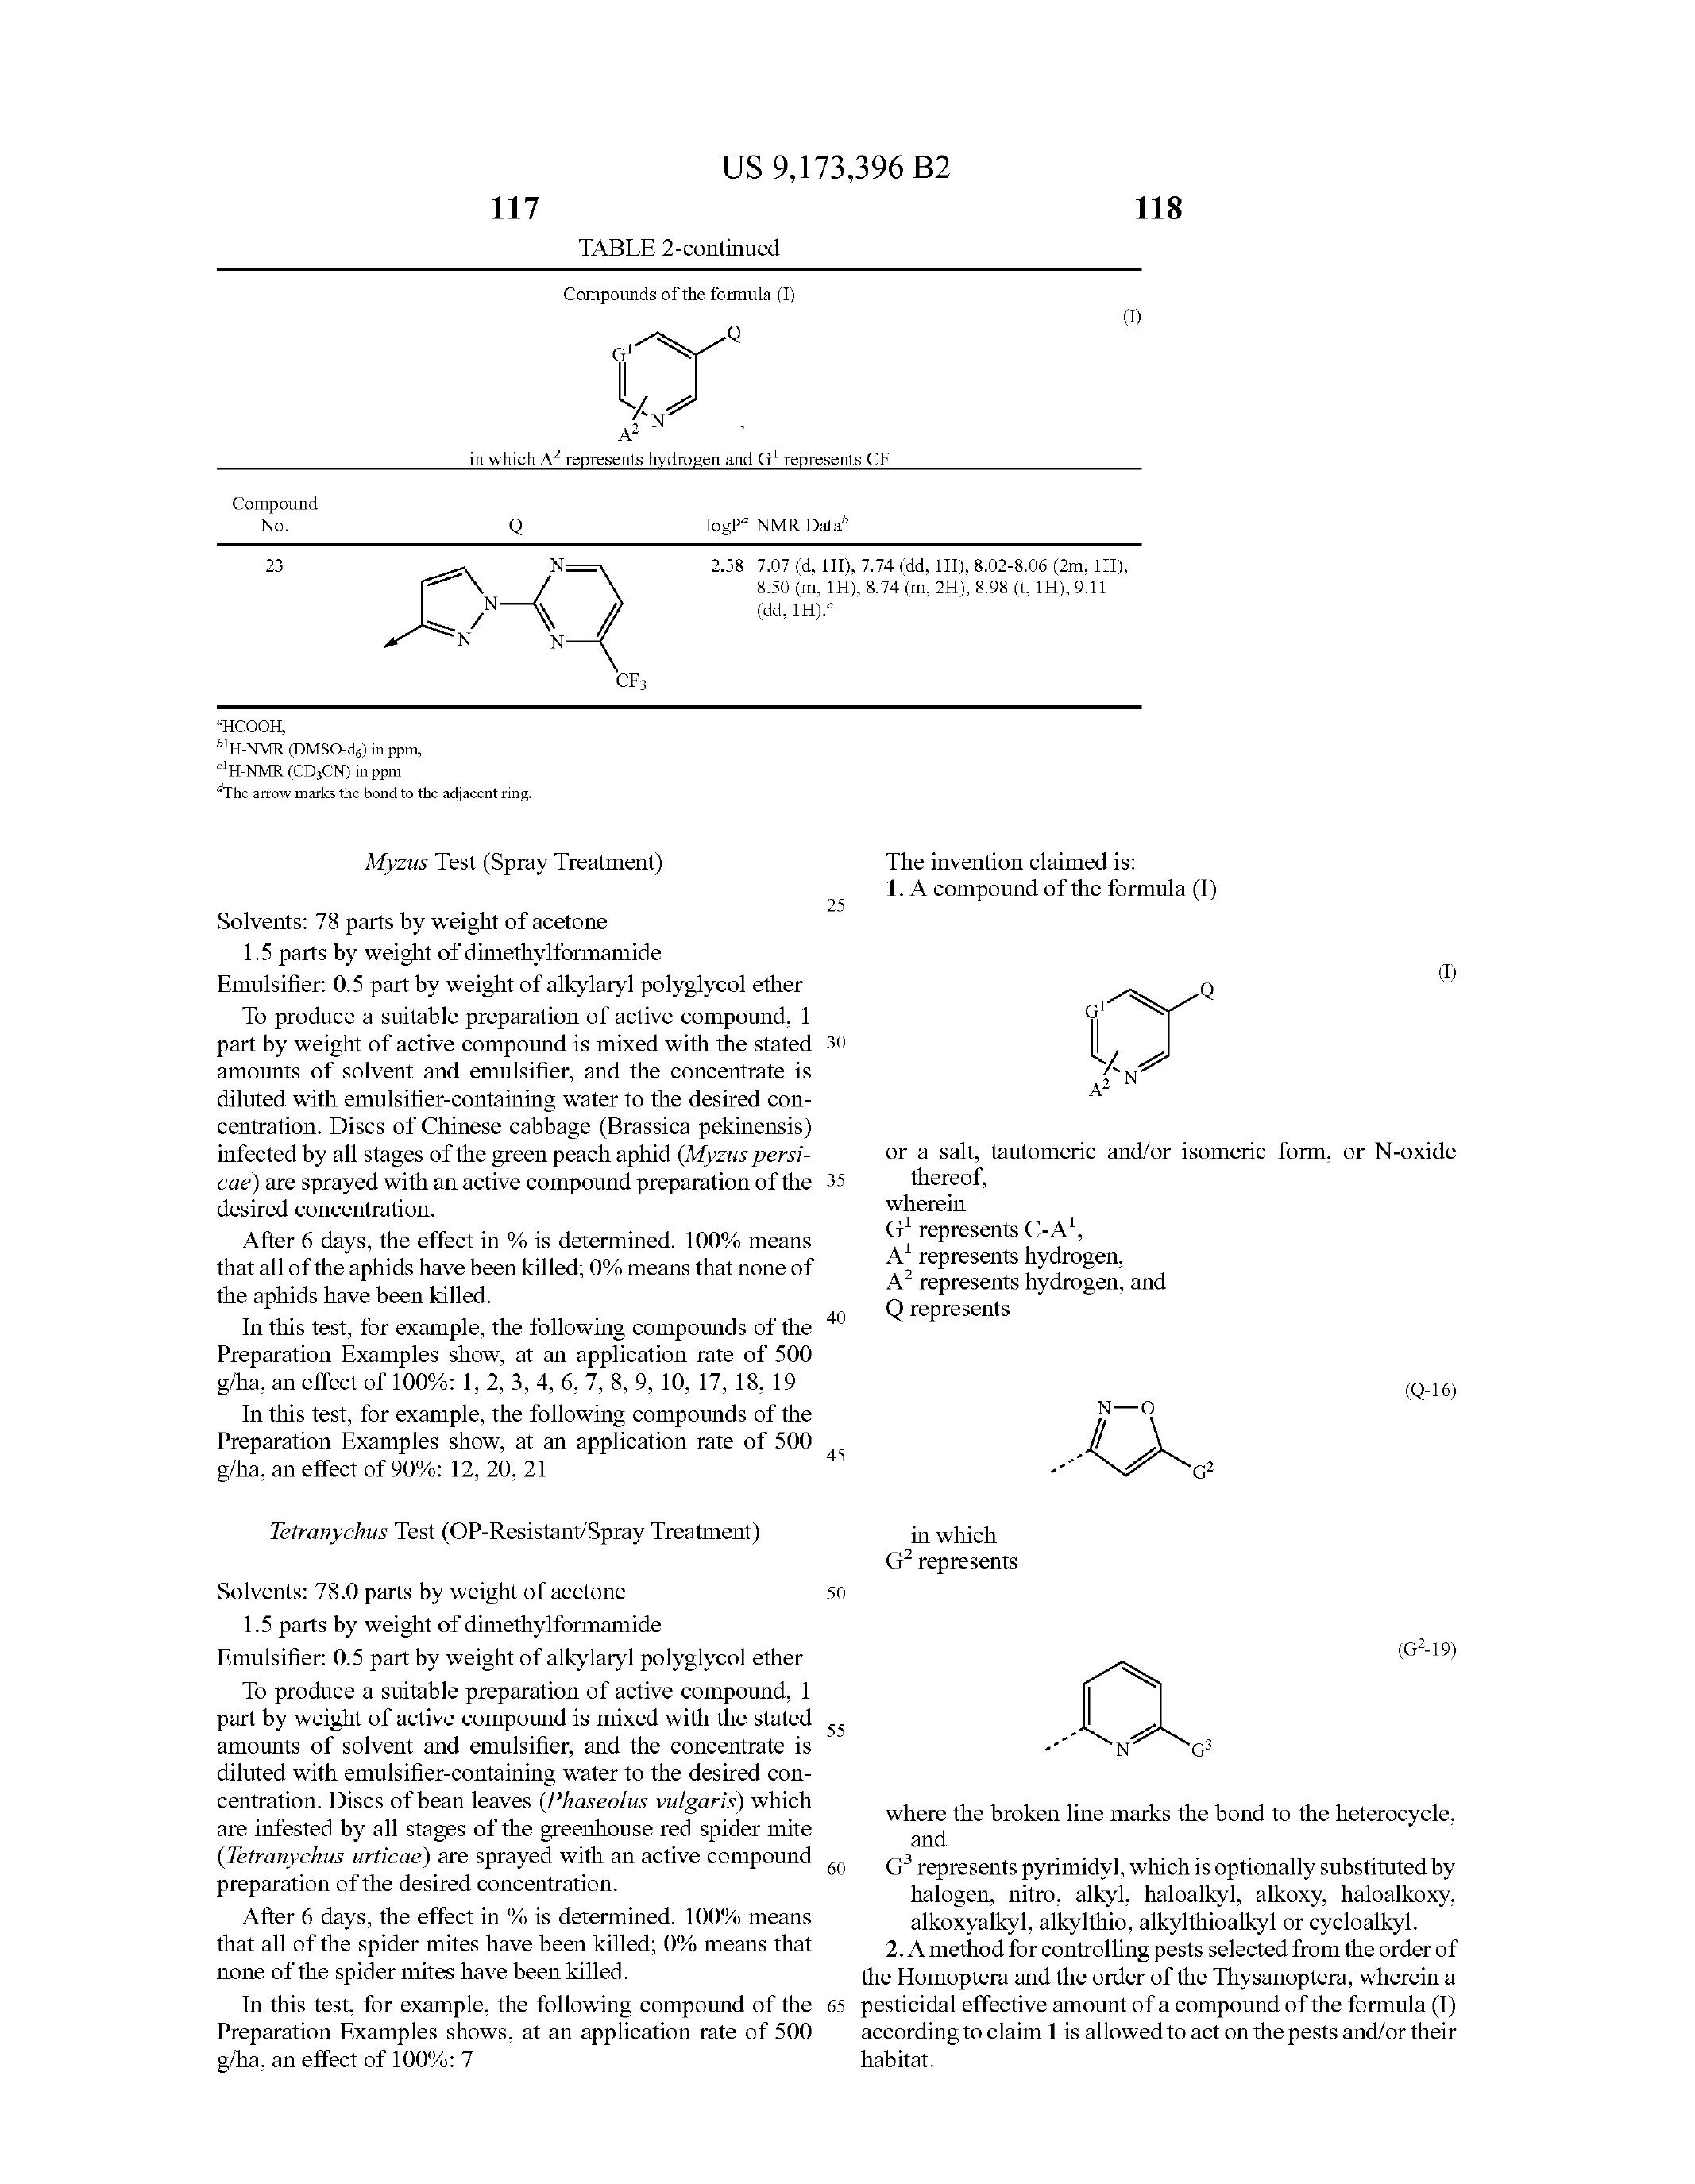intermediates: (1012, 1642, 1239, 1783), (1053, 1381, 1229, 1507)
